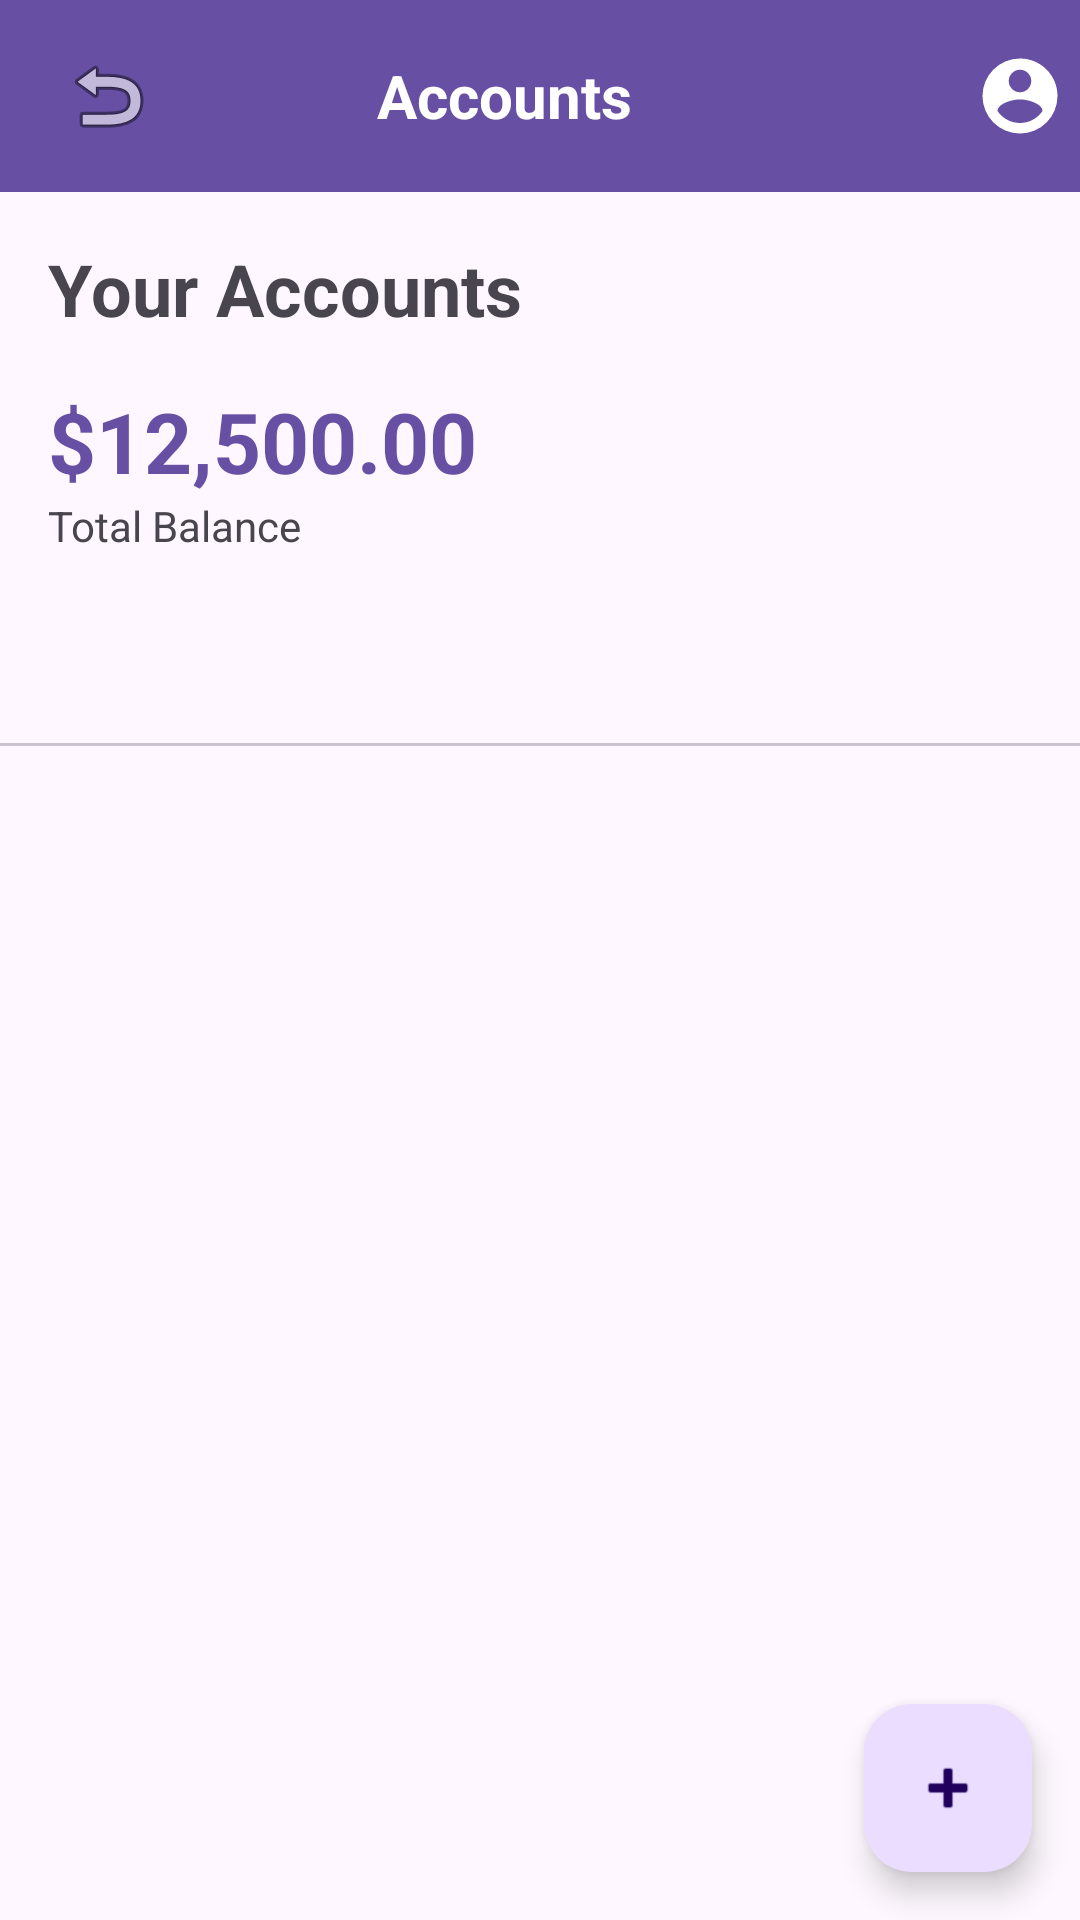

Named icons in this screenshot (1080 × 1920) and their centers, point (x, y):
Add Account: point (948, 1788)
Back: point (109, 96)
profile: point (1020, 96)
